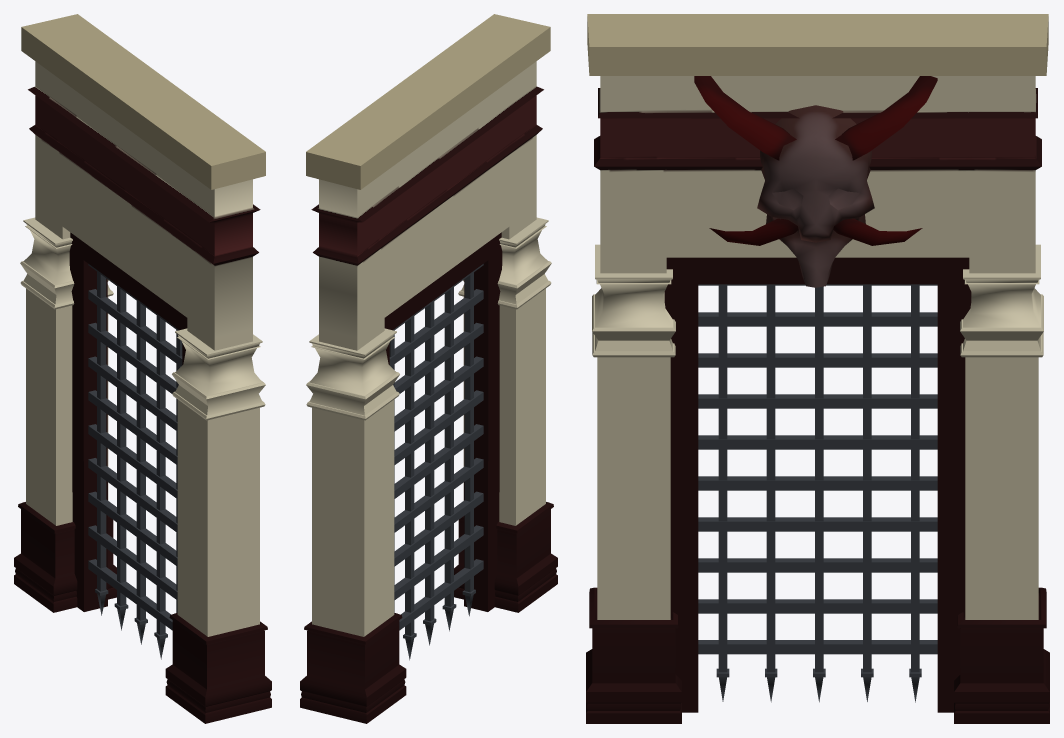
The model's file is Sea Temple Map_Door.fbx.
3 renders of one model, left to right at view 1: azimuth 30°, elevation 25°; view 2: azimuth 150°, elevation 25°; view 3: azimuth 270°, elevation 25°, orthographic. The views are drawn at different scales.
Visible parts, largest first — view 1: Object1670; view 2: Object1670; view 3: Object1670.
Boxes of the visible parts, x1,y1,x2,y2 form: Object1670: (14, 14, 271, 723); Object1670: (300, 14, 557, 723); Object1670: (586, 14, 1049, 723).
Size of the model in its own units: 78.06 by 510 by 318.
